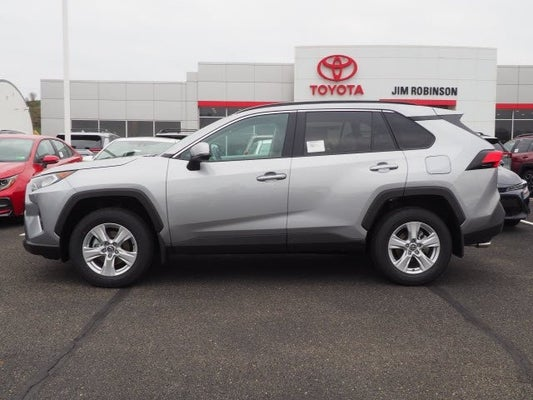Toyota RAV-4: (22, 102, 506, 288)
